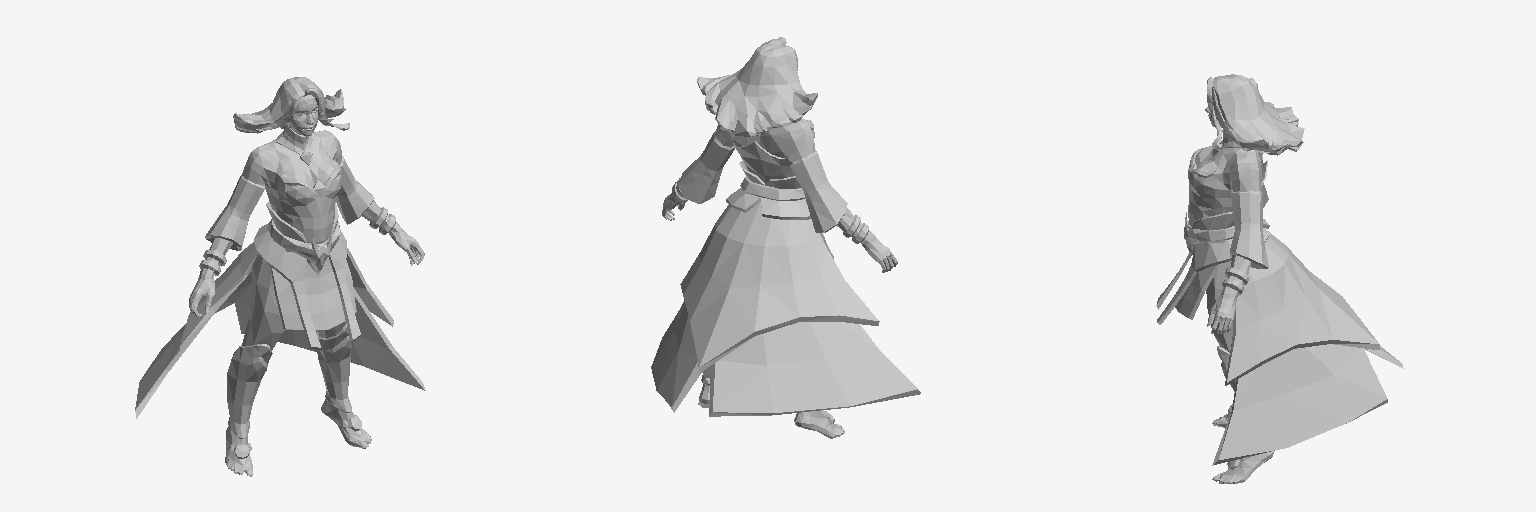
The model's file is lina_statue_000003.obj.
The picture shows the model from 3 angles: view 1: azimuth 30°, elevation 25°; view 2: azimuth 150°, elevation 25°; view 3: azimuth 270°, elevation 25°; orthographic projection.
Parts seen in each view (by area): view 1: lina_body.001_lina_body; view 2: lina_body.001_lina_body; view 3: lina_body.001_lina_body.
Boxes of the visible parts, x1=… form: lina_body.001_lina_body: x1=135, y1=77, x2=425, y2=476; lina_body.001_lina_body: x1=651, y1=37, x2=920, y2=438; lina_body.001_lina_body: x1=1156, y1=74, x2=1403, y2=483.
Bounding box in the file's own units: 135 × 179 × 106.